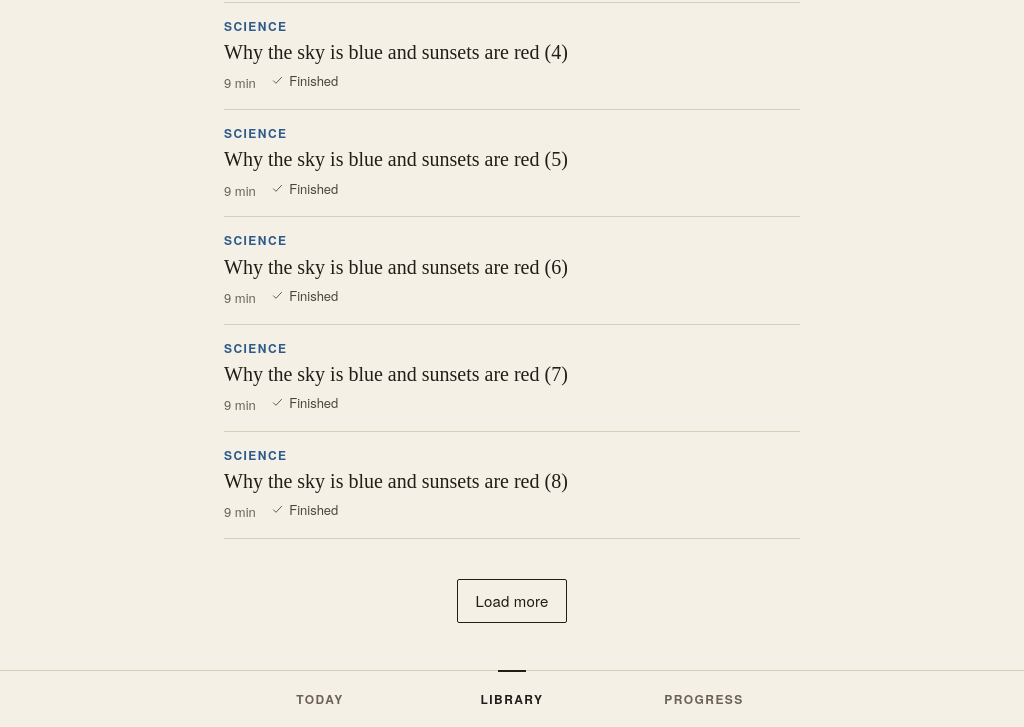
Test: Library › loads more with the cursor
The width and height of the screenshot is (1024, 727).
(page scrolled)
Expected: the text "sunsets are red (15)" is not shown
Click the button "Load more": (512, 601) [457,579,567,623]
(page scrolled)
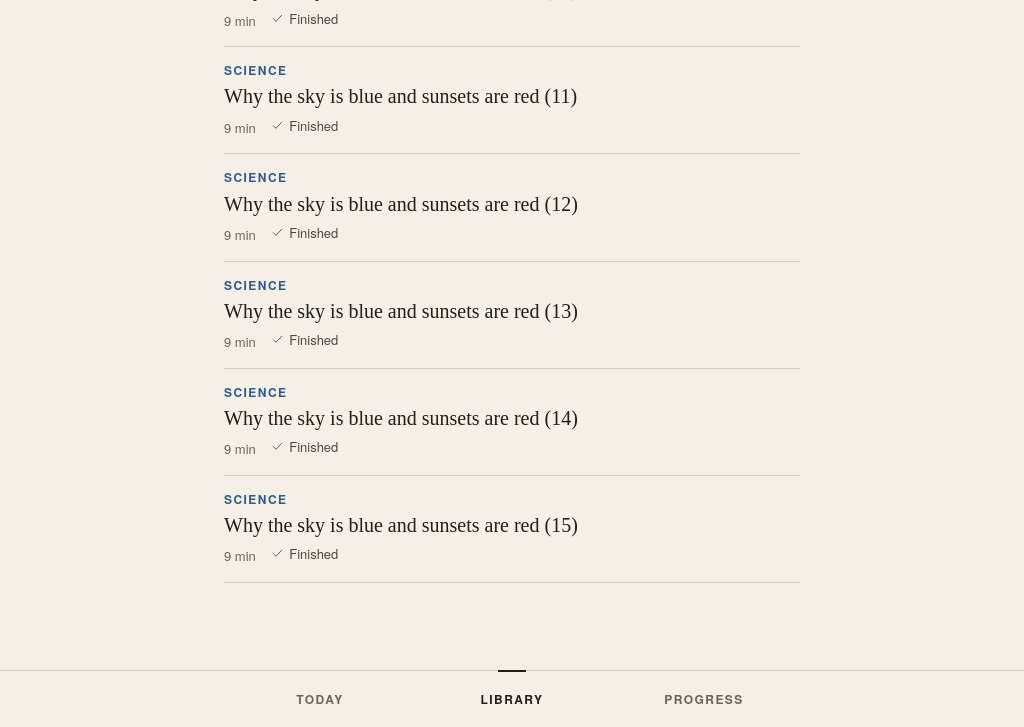
Now the text "Why the sky is blue and sunsets are red (15)" is shown, box [224,514,578,536]
Now the button "Load more" is gone
